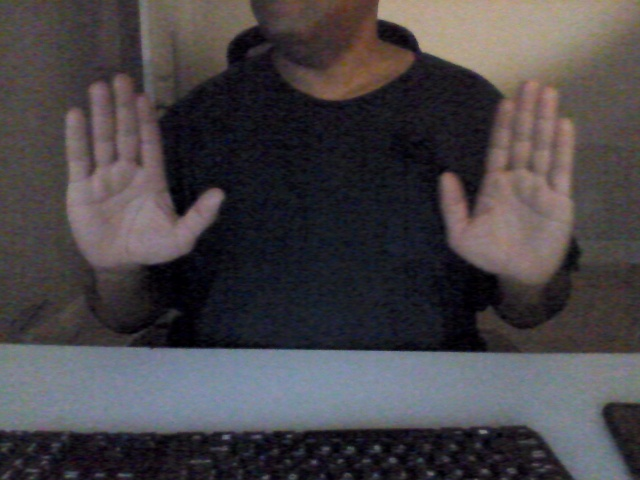great: (59, 70, 587, 284)
